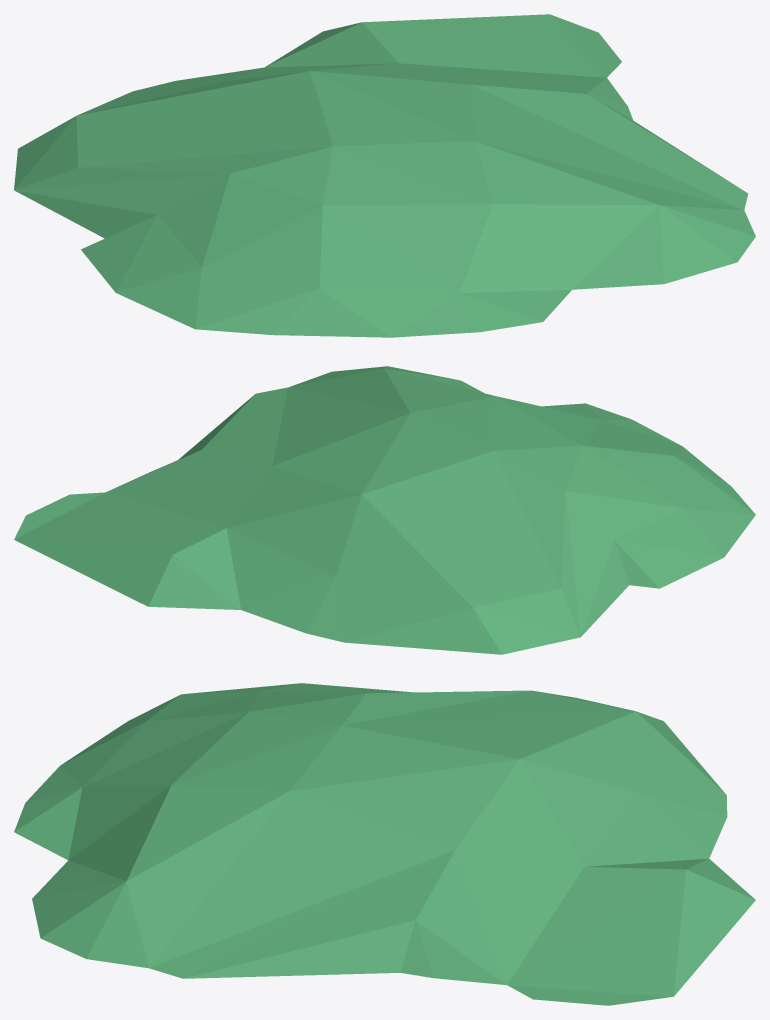
Rendered from GrassPatchSmall_02.glb.
3 renders of one model, top to bottom at view 1: azimuth 30°, elevation 25°; view 2: azimuth 150°, elevation 25°; view 3: azimuth 270°, elevation 25°, orthographic. The views are drawn at different scales.
Parts seen in each view (by area): view 1: GrassPatchSmall_02; view 2: GrassPatchSmall_02; view 3: GrassPatchSmall_02.
Boxes of the visible parts, x1,y1,x2,y2 form: GrassPatchSmall_02: [14, 14, 755, 337]; GrassPatchSmall_02: [14, 366, 755, 654]; GrassPatchSmall_02: [14, 683, 755, 1005].
Size of what is drawn, in the model's own units: 2.93 by 0.3337 by 2.85.
Materials: 1 (1 with a texture image).
